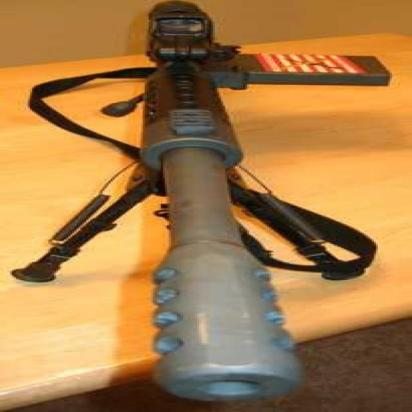Gun: (98, 0, 400, 412)
